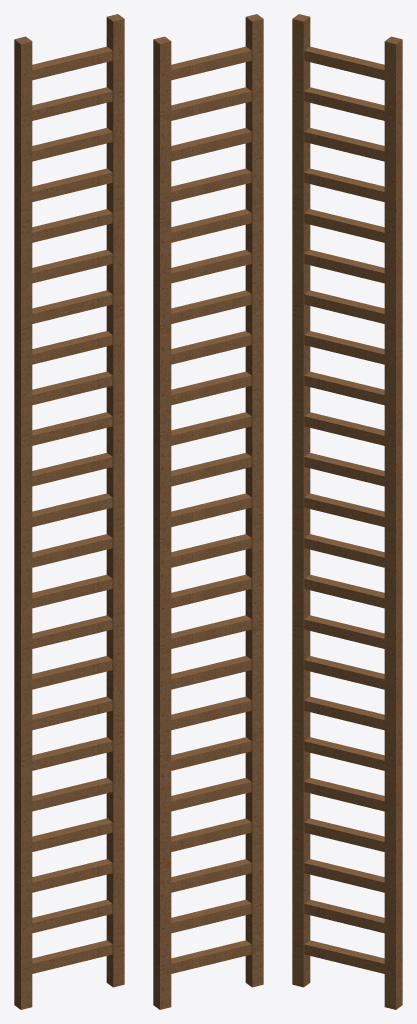
Rendered from Ladder.fbx.
The picture shows the model from 3 angles, left to right: view 1: azimuth 30°, elevation 25°; view 2: azimuth 210°, elevation 25°; view 3: azimuth 330°, elevation 25°; orthographic projection.
Parts seen in each view (by area): view 1: Sides, Rungs; view 2: Sides, Rungs; view 3: Sides, Rungs.
Part boxes in pixels (x1,y1,x2,y2): Sides: (14,14,124,1009); Rungs: (32,46,112,973); Sides: (153,14,263,1009); Rungs: (171,46,251,973); Sides: (292,14,402,1009); Rungs: (304,46,384,973).
Bounding box in the file's own units: 2.25 × 20 × 0.25.
